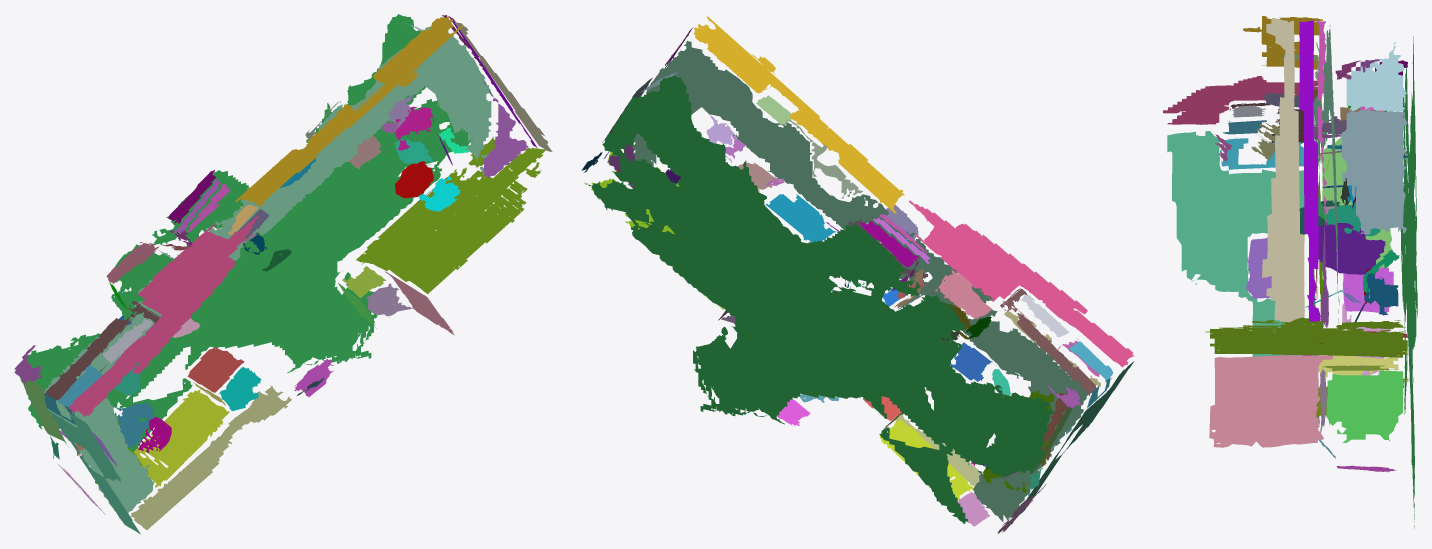
File: airplanes_scene0131.glb
3 views of the same model, side by side, from view 1: azimuth 30°, elevation 25°; view 2: azimuth 150°, elevation 25°; view 3: azimuth 270°, elevation 25° (orthographic). The views are drawn at different scales.
Bounding box in the file's own units: 7.62 × 6.23 × 2.17.
